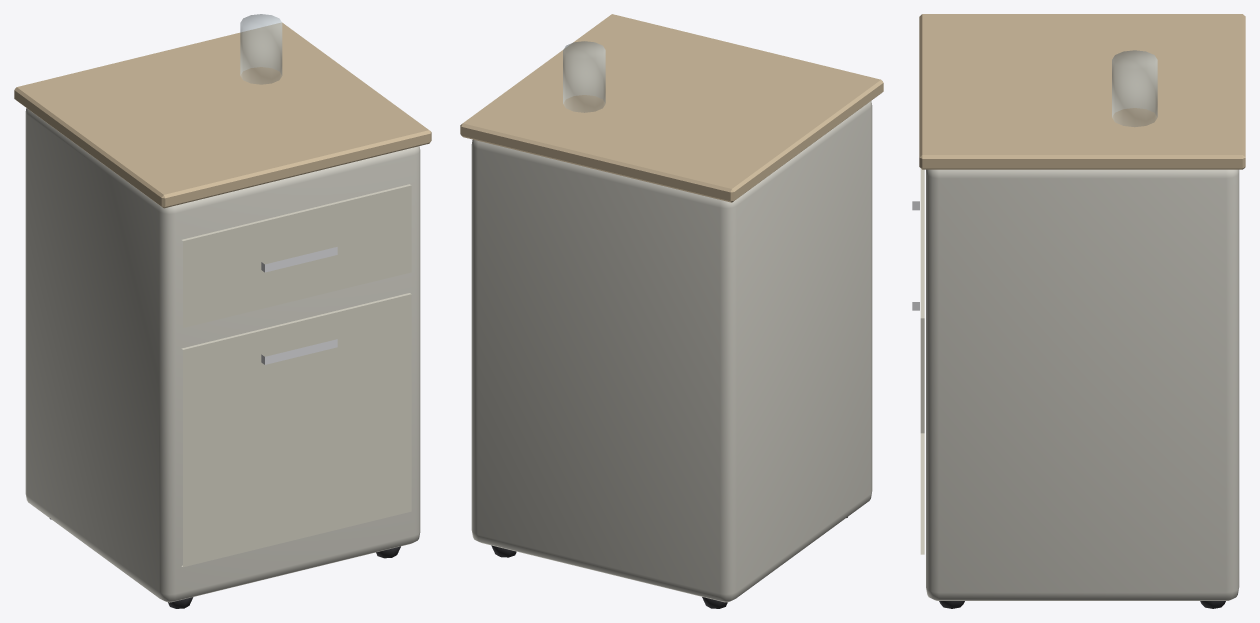
The model's file is bedside_locker.glb.
3 views of the same model, side by side, from view 1: azimuth 30°, elevation 25°; view 2: azimuth 150°, elevation 25°; view 3: azimuth 270°, elevation 25° (orthographic). The views are drawn at different scales.
Visible parts, largest first — view 1: bedside_locker; view 2: bedside_locker; view 3: bedside_locker.
Boxes of the visible parts, x1,y1,x2,y2 form: bedside_locker: (14, 14, 431, 608); bedside_locker: (460, 14, 883, 608); bedside_locker: (912, 14, 1245, 608).
Size of the model in its own units: 0.52 by 0.89 by 0.511.
